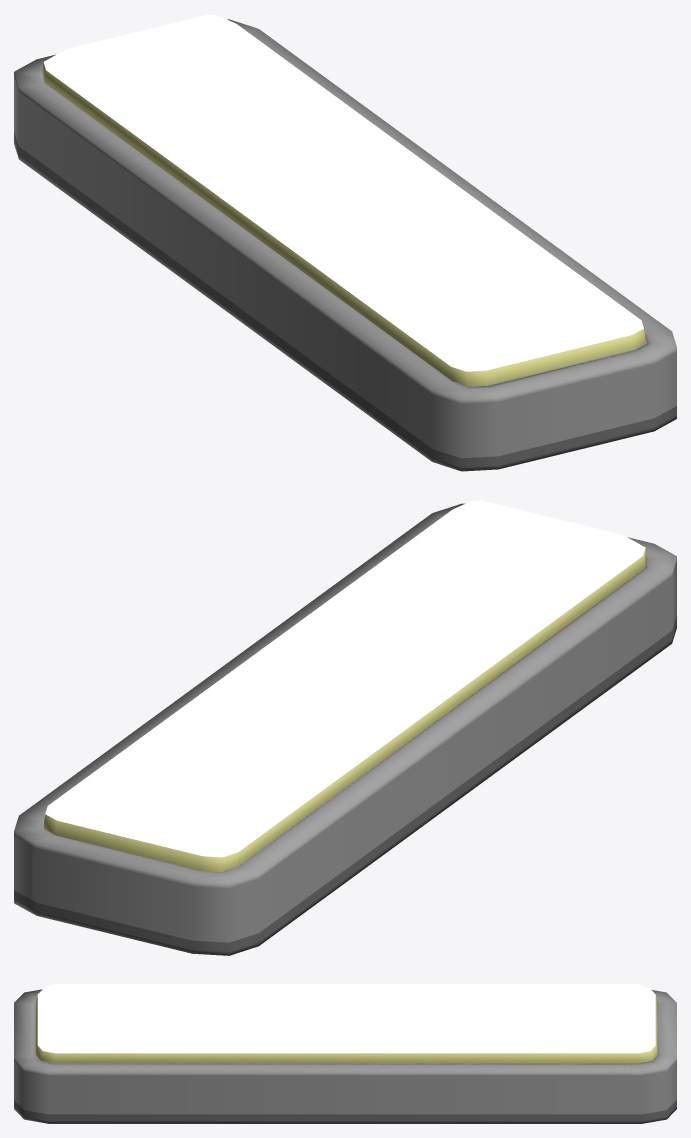
Rendered from Tubelight.fbx.
3 renders of one model, top to bottom at view 1: azimuth 30°, elevation 25°; view 2: azimuth 150°, elevation 25°; view 3: azimuth 270°, elevation 25°, orthographic. The views are drawn at different scales.
Parts seen in each view (by area): view 1: Actual-Light, TubeLight; view 2: Actual-Light, TubeLight; view 3: Actual-Light, TubeLight.
Boxes of the visible parts, box(x1,y1,x2,y2) form: Actual-Light: box(42, 14, 645, 386); TubeLight: box(14, 19, 676, 471); Actual-Light: box(44, 500, 646, 871); TubeLight: box(14, 503, 676, 955); Actual-Light: box(35, 984, 657, 1063); TubeLight: box(14, 989, 676, 1123).
Bounding box in the file's own units: 30 × 11.73 × 100.
